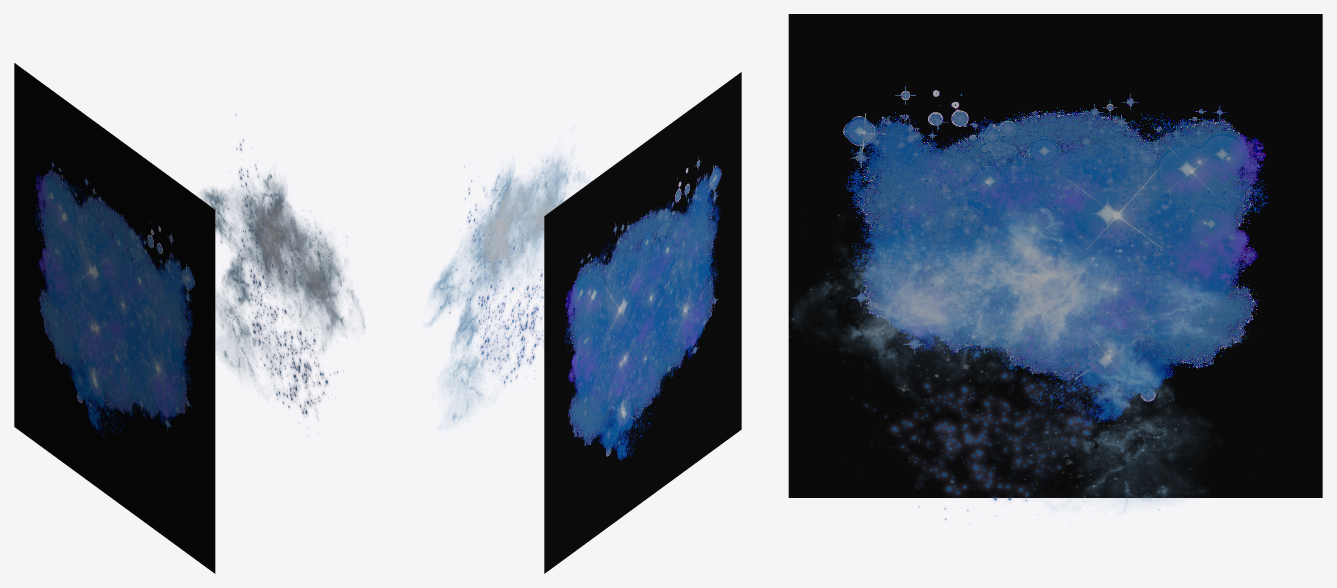
Rendered from starcluster.glb.
3 views of the same model, side by side, from view 1: azimuth 30°, elevation 25°; view 2: azimuth 150°, elevation 25°; view 3: azimuth 270°, elevation 25° (orthographic). The views are drawn at different scales.
Visible parts, largest first — view 1: 13, 14; view 2: 13, 14; view 3: 13, 14.
Part boxes in pixels (x1,y1,x2,y2): 13: (14,63,215,573); 14: (201,114,365,435); 13: (544,72,741,573); 14: (423,125,587,427); 13: (788,14,1322,497); 14: (789,161,1256,525).
Bounding box in the file's own units: 0.4353 × 1.05 × 1.03.
2 materials, 2 textured.
